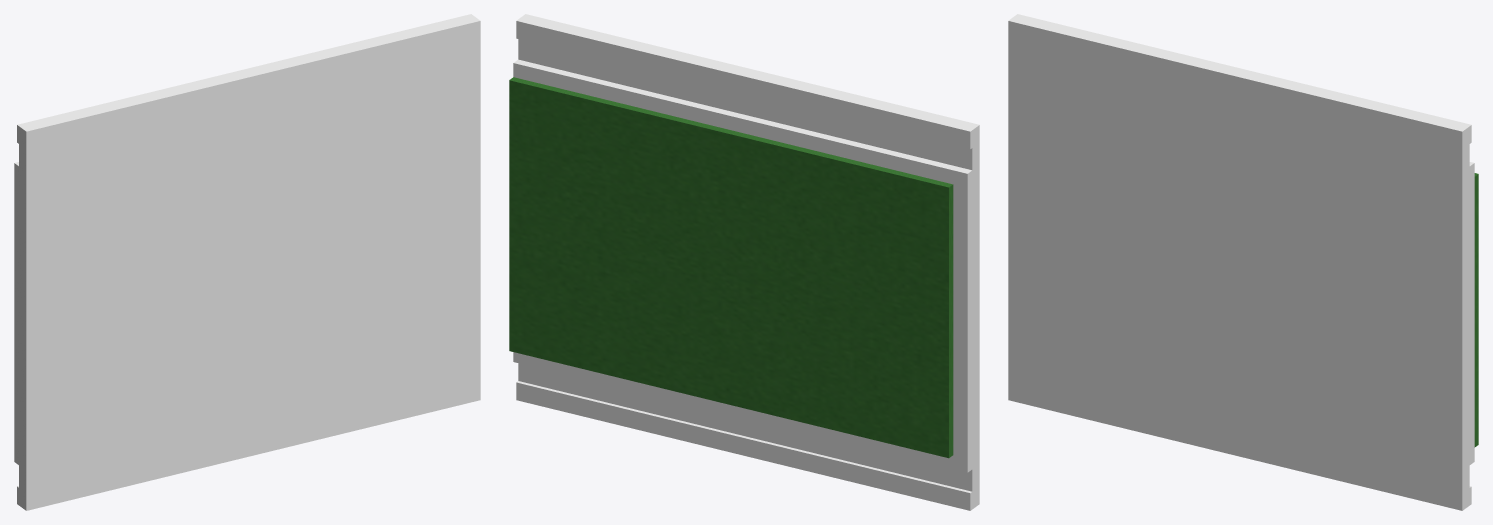
Rendered from venice_road_10.fbx.
The picture shows the model from 3 angles, left to right: view 1: azimuth 30°, elevation 25°; view 2: azimuth 150°, elevation 25°; view 3: azimuth 330°, elevation 25°; orthographic projection.
Visible parts, largest first — view 1: Cube.299; view 2: Cube.299; view 3: Cube.299.
Boxes of the visible parts, bbox=[...] form: Cube.299: bbox=[14, 14, 480, 510]; Cube.299: bbox=[509, 14, 979, 510]; Cube.299: bbox=[1008, 14, 1478, 510].
Bounding box in the file's own units: 1779 × 1420 × 111.
